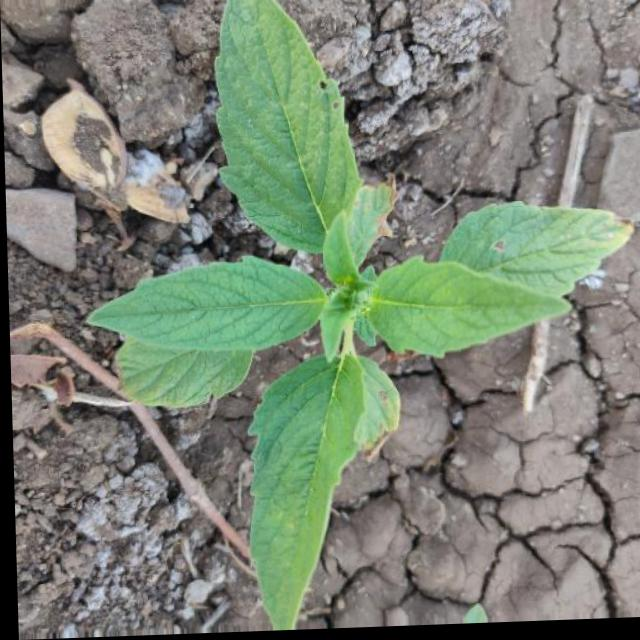crop: (52, 0, 640, 638)
